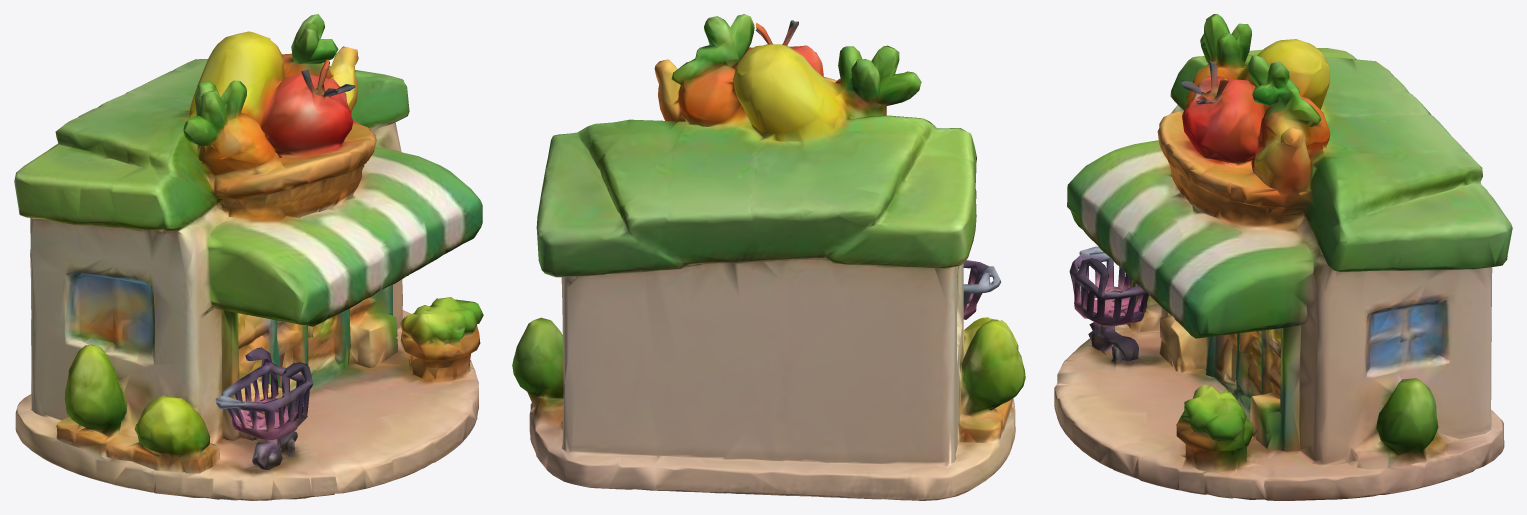
Rendered from pl_mart.glb.
3 views of the same model, side by side, from view 1: azimuth 30°, elevation 25°; view 2: azimuth 150°, elevation 25°; view 3: azimuth 270°, elevation 25° (orthographic). The views are drawn at different scales.
Size of the model in its own units: 1 by 0.8822 by 0.9766.
Materials: 1 (1 with a texture image).
